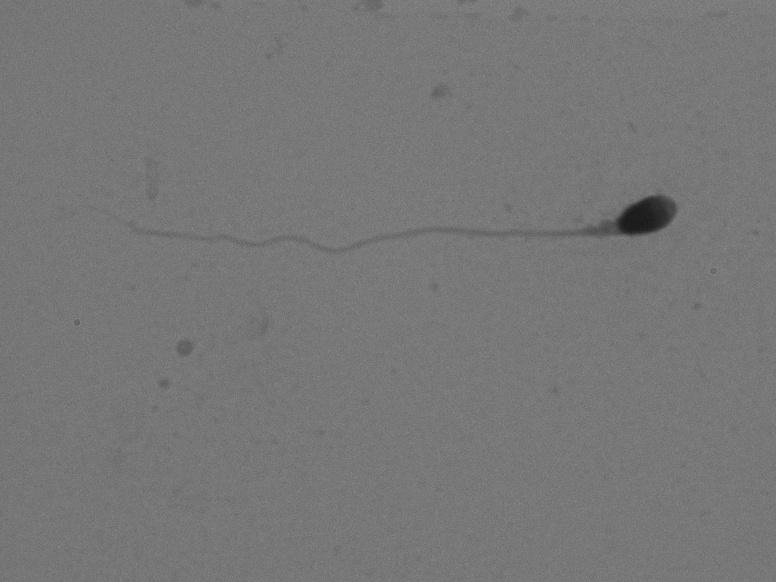Normal: (81, 178, 680, 290)
